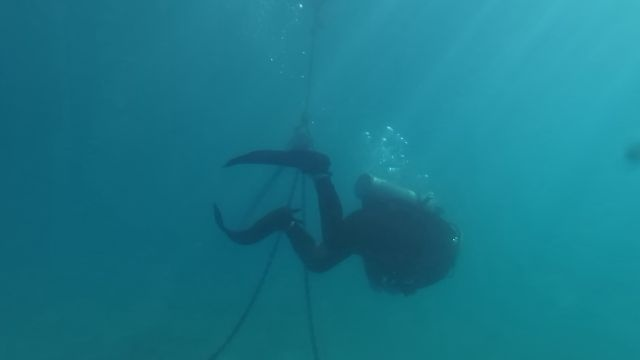Diver: (198, 145, 470, 298)
